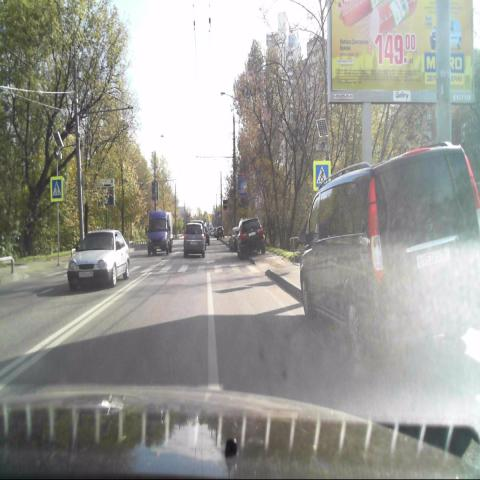5_19_1: (314, 161, 330, 191), (50, 176, 64, 203)
